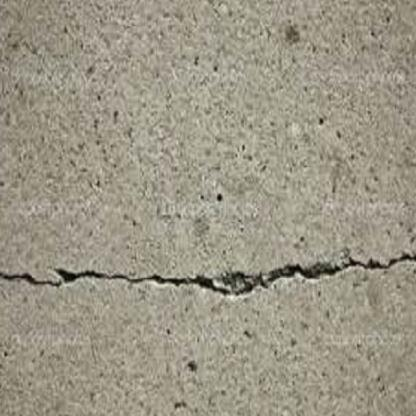Cracks: (0, 249, 416, 301)
